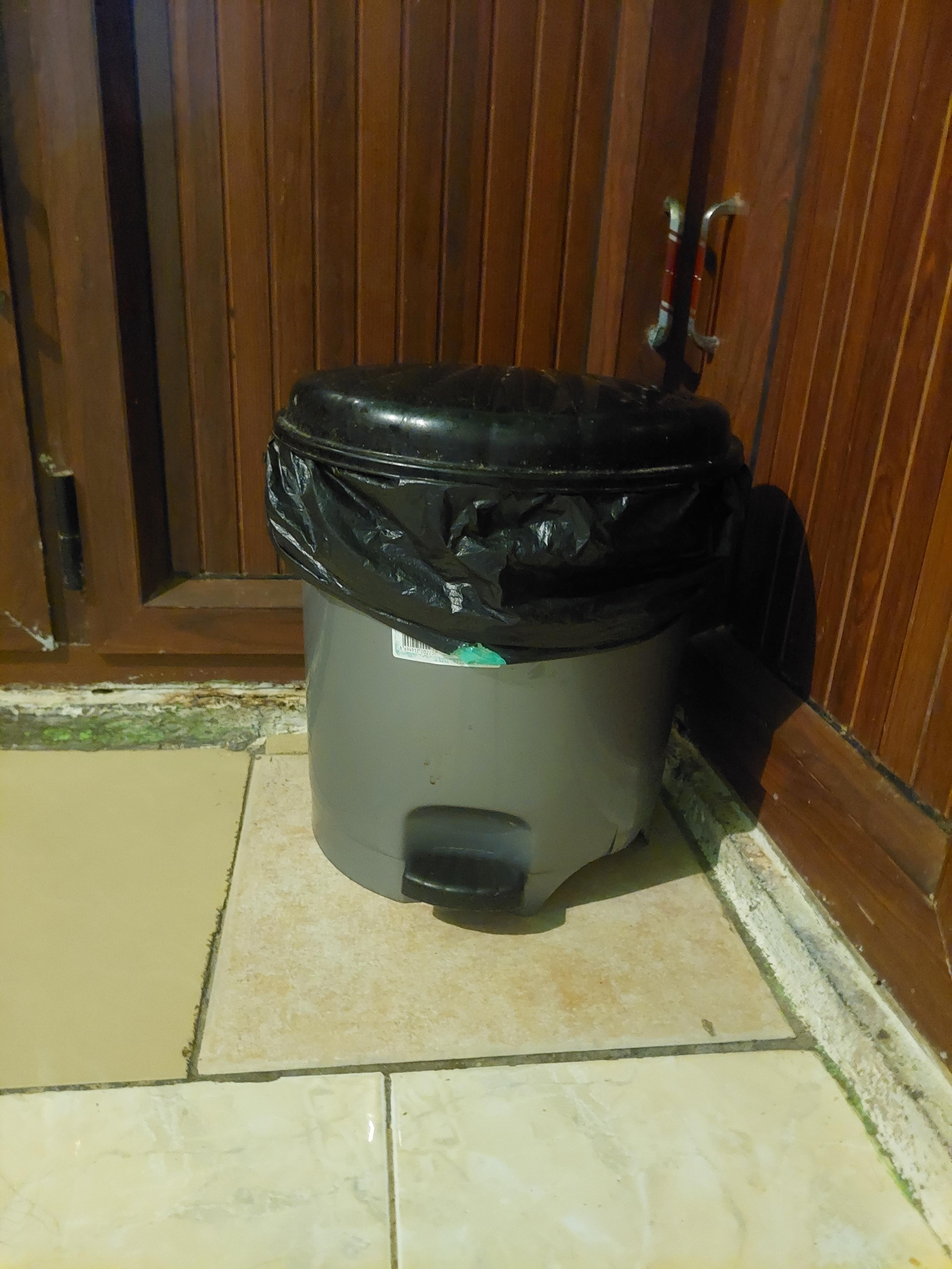bin: (263, 362, 755, 920)
